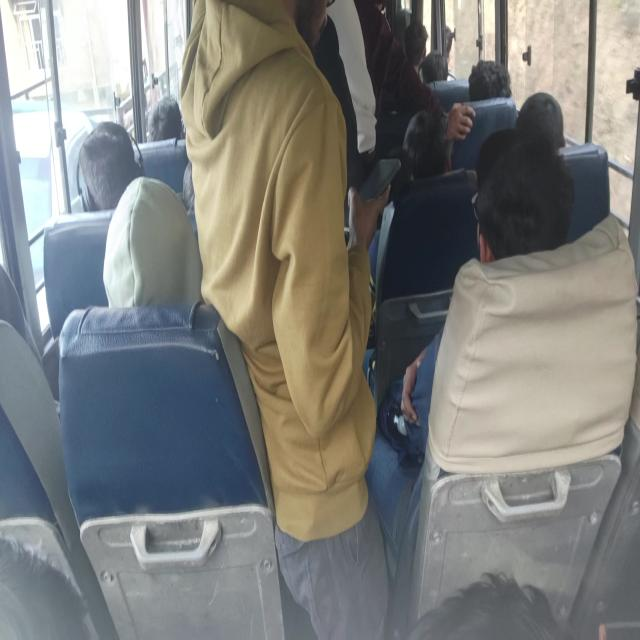person: (185, 0, 369, 529), (298, 0, 361, 177), (406, 575, 547, 640), (479, 144, 559, 256), (108, 187, 182, 296), (330, 0, 383, 150), (357, 0, 401, 129), (0, 556, 63, 640), (391, 121, 457, 188), (0, 263, 20, 482), (74, 124, 138, 182), (147, 99, 190, 168), (516, 88, 562, 150), (461, 56, 507, 100), (423, 54, 455, 85), (406, 19, 436, 44)
